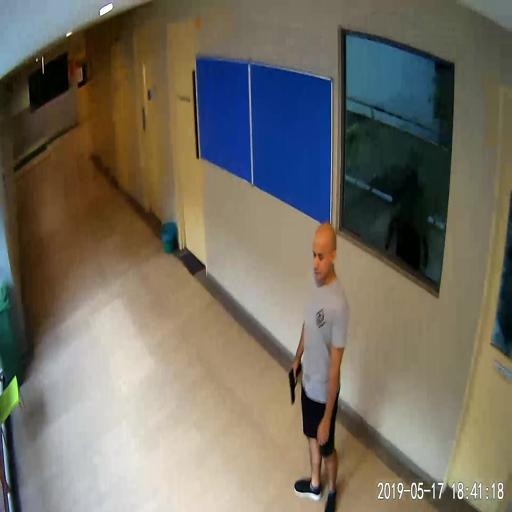pistol: (288, 361, 301, 405)
